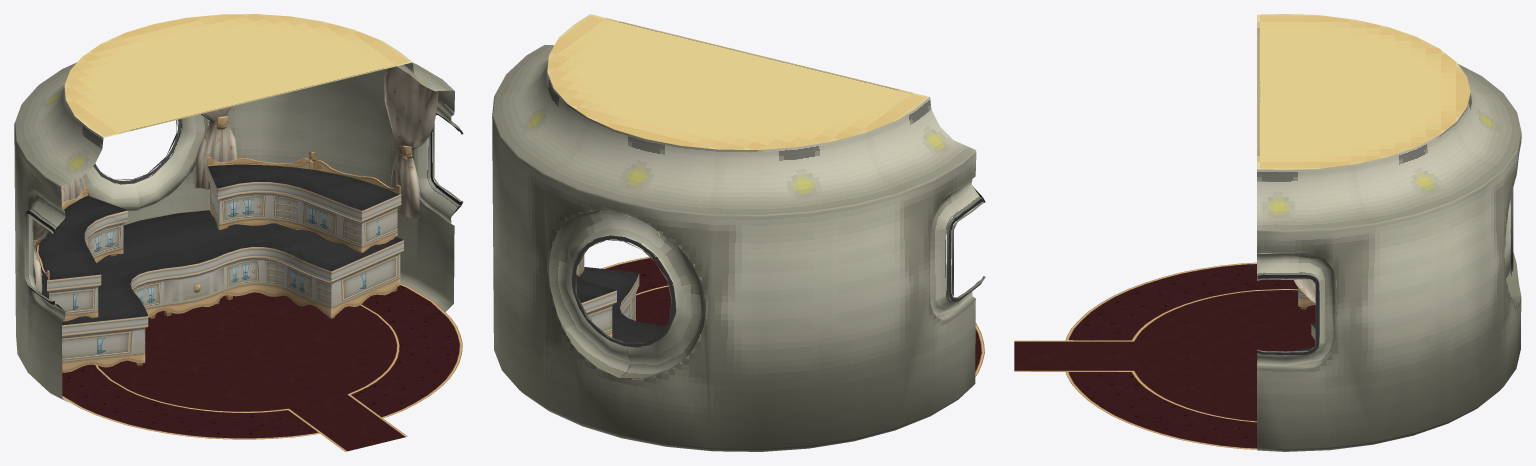
Rendered from HomeInsideTest.FBX.
3 renders of one model, left to right at view 1: azimuth 30°, elevation 25°; view 2: azimuth 150°, elevation 25°; view 3: azimuth 270°, elevation 25°, orthographic. The views are drawn at different scales.
Visible parts, largest first — view 1: Mold__WallMT; view 2: Mold__WallMT; view 3: Mold__WallMT.
Boxes of the visible parts, box(x1,y1,x2,y2) form: Mold__WallMT: box(14, 14, 463, 451); Mold__WallMT: box(492, 14, 985, 451); Mold__WallMT: box(1014, 14, 1521, 451).
Bounding box in the file's own units: 132739 × 79194 × 137553.
Materials: 7 (7 with a texture image).
